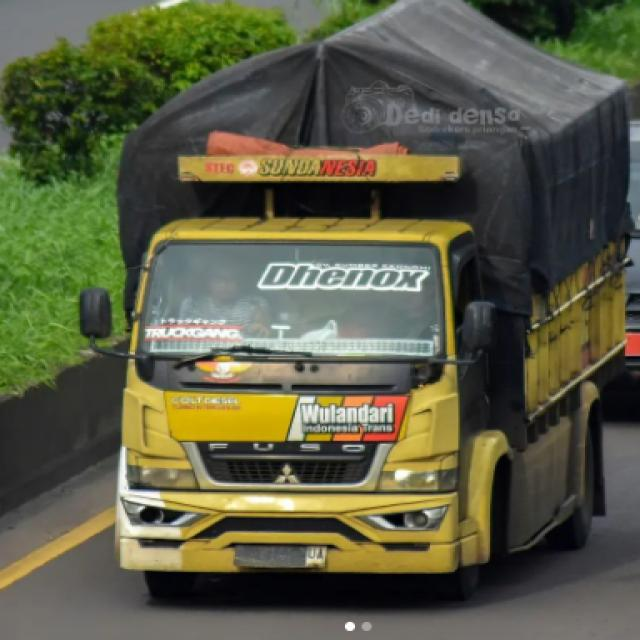Truck: (53, 1, 636, 595)
